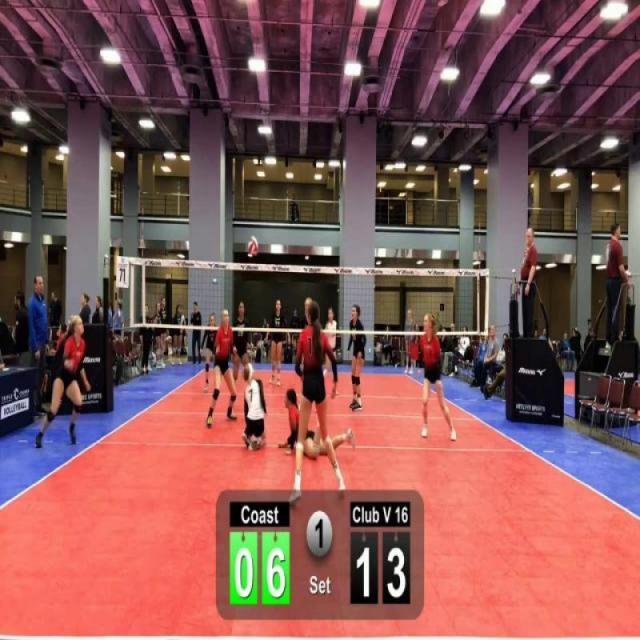volleyball: (246, 234, 261, 257)
